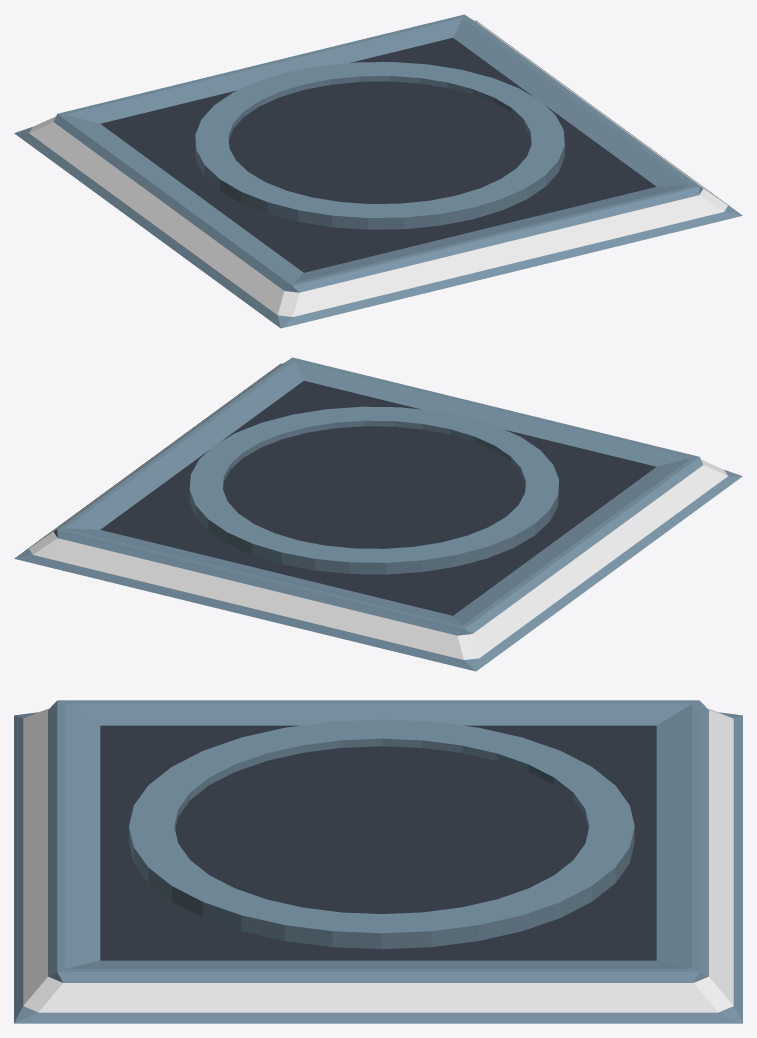
File: Placa.fbx
3 views of the same model, one above another, from view 1: azimuth 30°, elevation 25°; view 2: azimuth 150°, elevation 25°; view 3: azimuth 270°, elevation 25° (orthographic). The views are drawn at different scales.
Parts seen in each view (by area): view 1: Plane; view 2: Plane; view 3: Plane.
Boxes of the visible parts, <box> form: Plane: <box>14,14,742,328</box>; Plane: <box>14,357,742,671</box>; Plane: <box>14,700,742,1023</box>.
Bounding box in the file's own units: 1015 × 69.05 × 1015.
